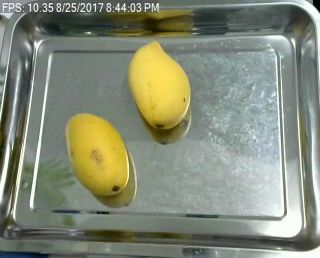Mango: (62, 108, 133, 198), (129, 37, 192, 130)
